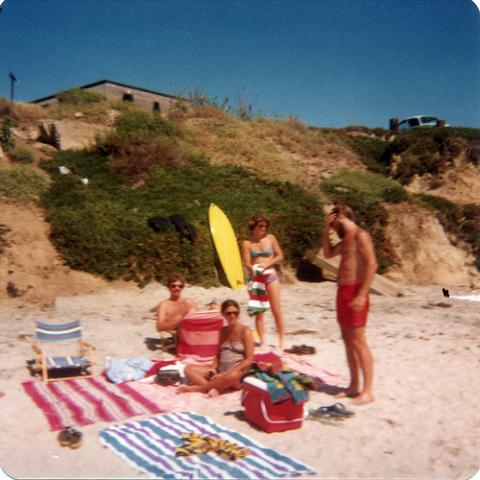car: (398, 116, 451, 130)
